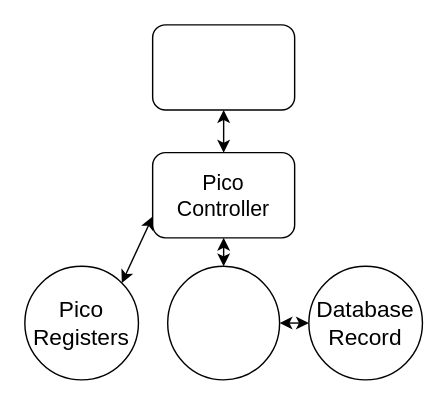
This 447x405 diagram has some shape labels left out. Each missing label, with the centre of its shape:
"Display Record" goes at [223,322].
"Machine Controller" goes at [223,66].
